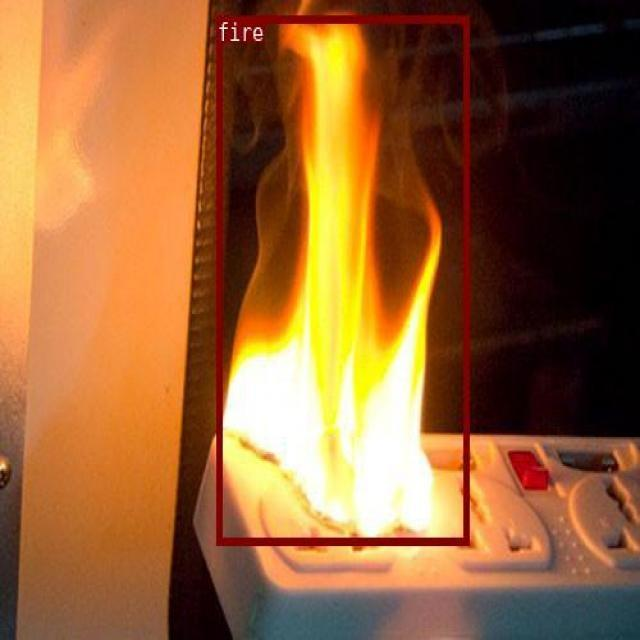fire: (216, 15, 468, 545)
